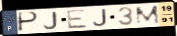3: (117, 6, 135, 27)
E: (66, 9, 89, 30)
J: (92, 8, 109, 27), (43, 11, 59, 30)
M: (134, 4, 162, 26)
P: (18, 11, 40, 33)
